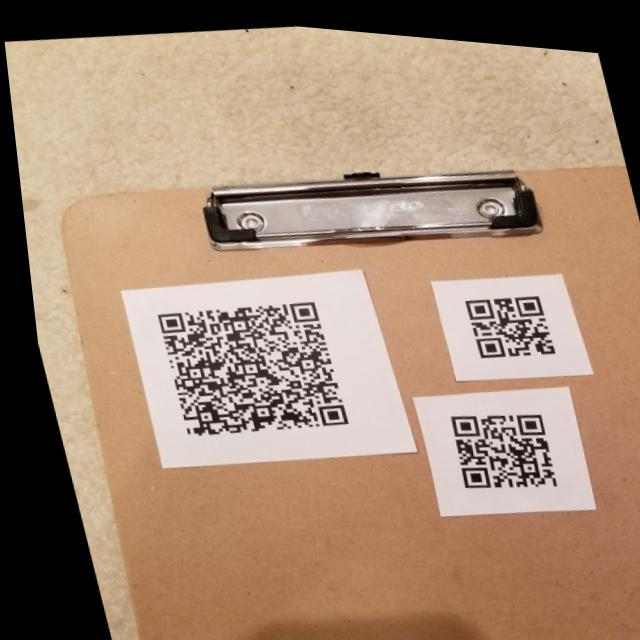QR_CODE: (128, 258, 370, 468), (409, 379, 569, 511), (441, 259, 573, 372)
